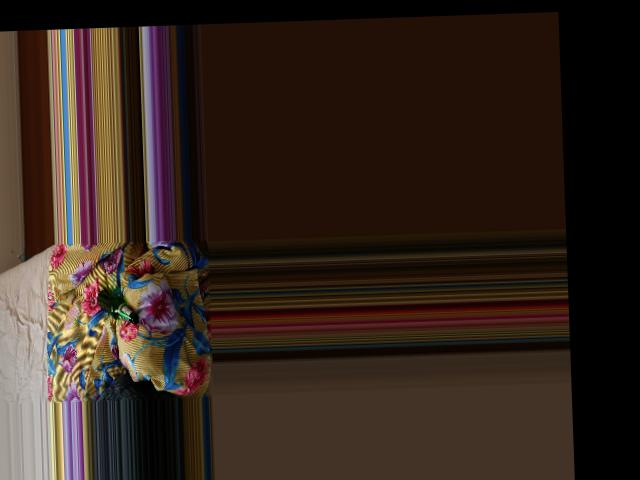beer: (97, 288, 140, 324)
